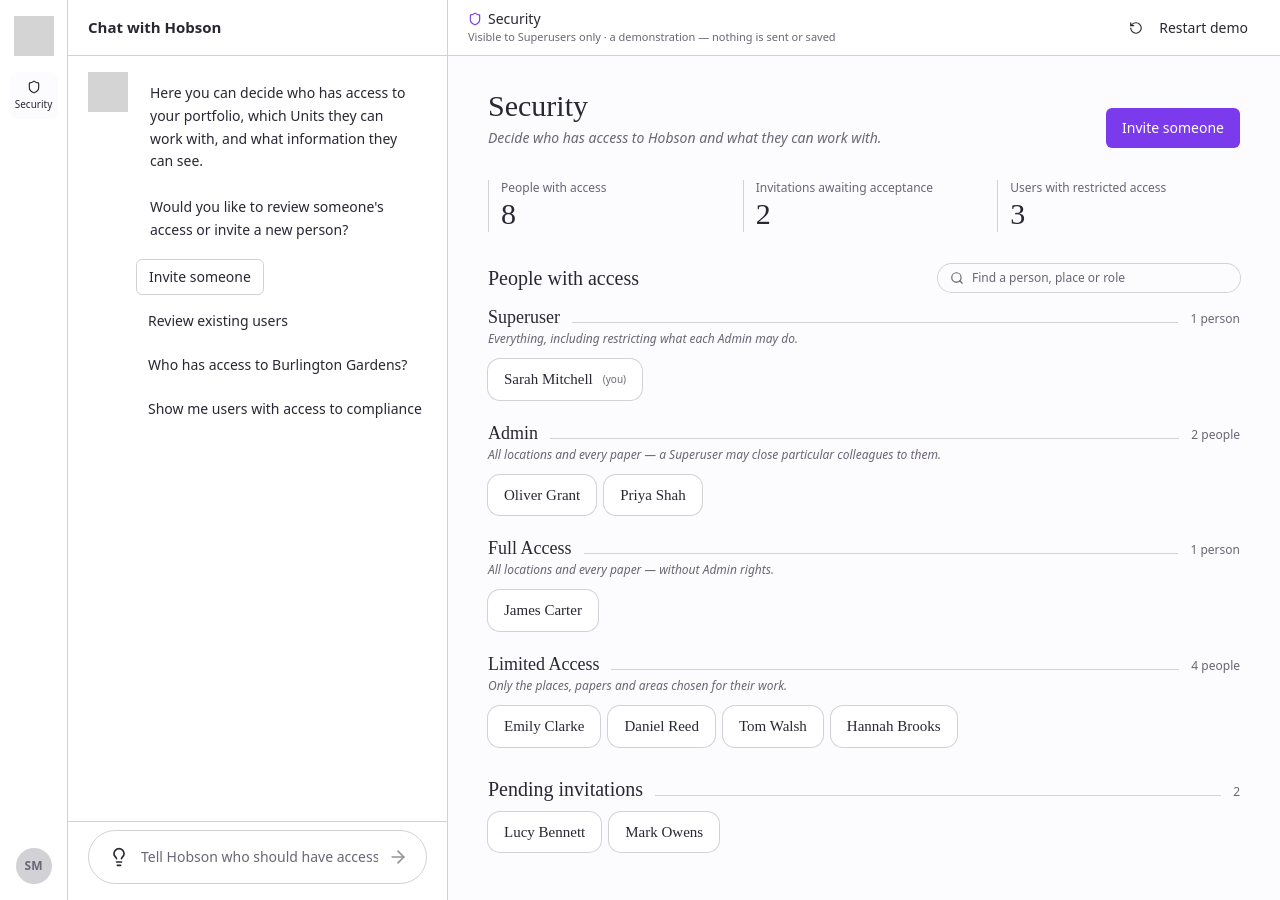
Test: prototype security page › renders the overview and opens a person with a live summary
Expected: the heading "People with access" is shown, [488,268,639,288]
Expected: the text "James Carter" is shown, [504,600,582,621]
Click the button with aria-label "Open James Carter's access" at (543, 611), box [488,590,598,631]
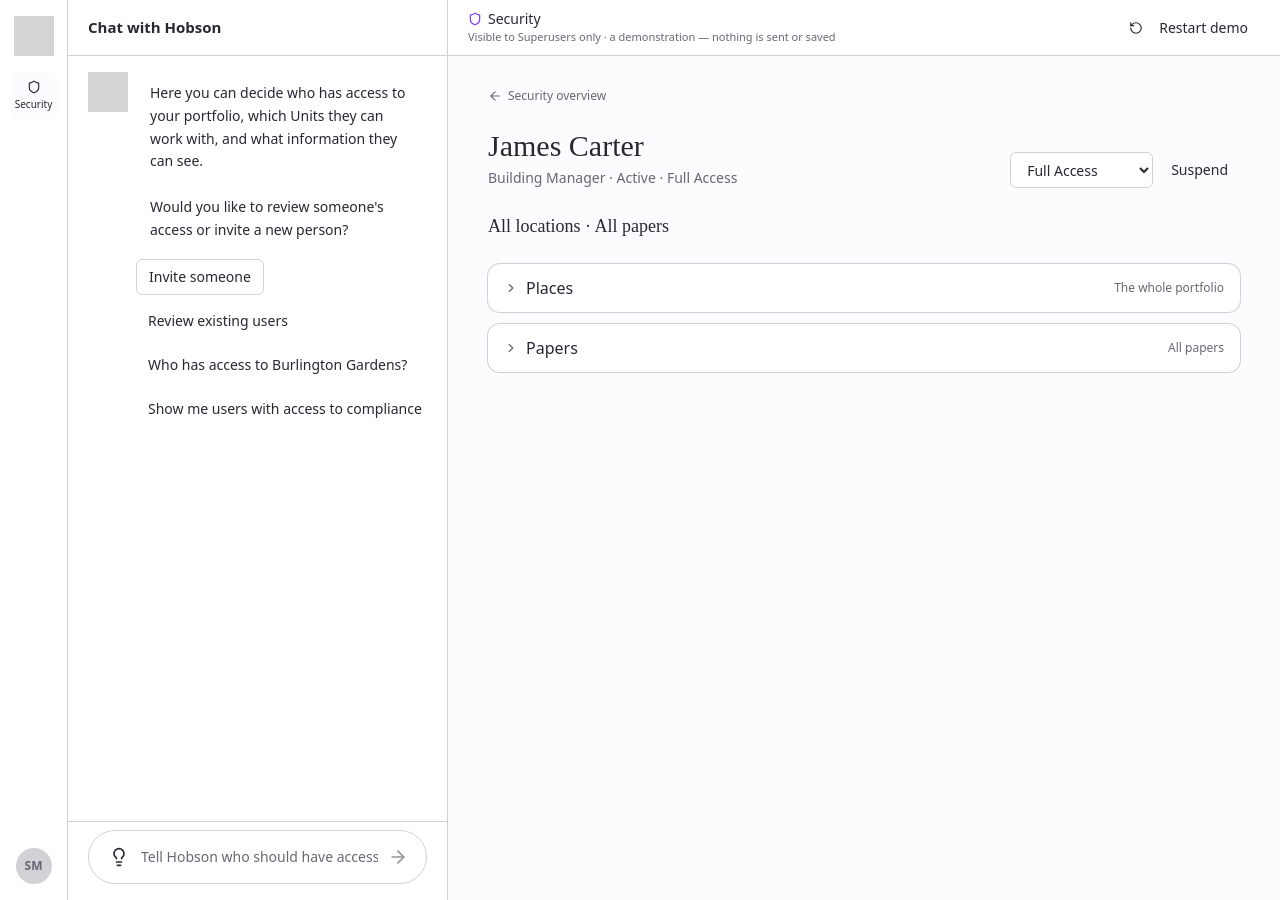
Expected: the text "Flat 8" is not shown
Expected: the text "All locations · All papers" is shown, [488,216,669,236]
Click the button "Places The whole portfolio" at (550, 288), box [488,264,1240,312]
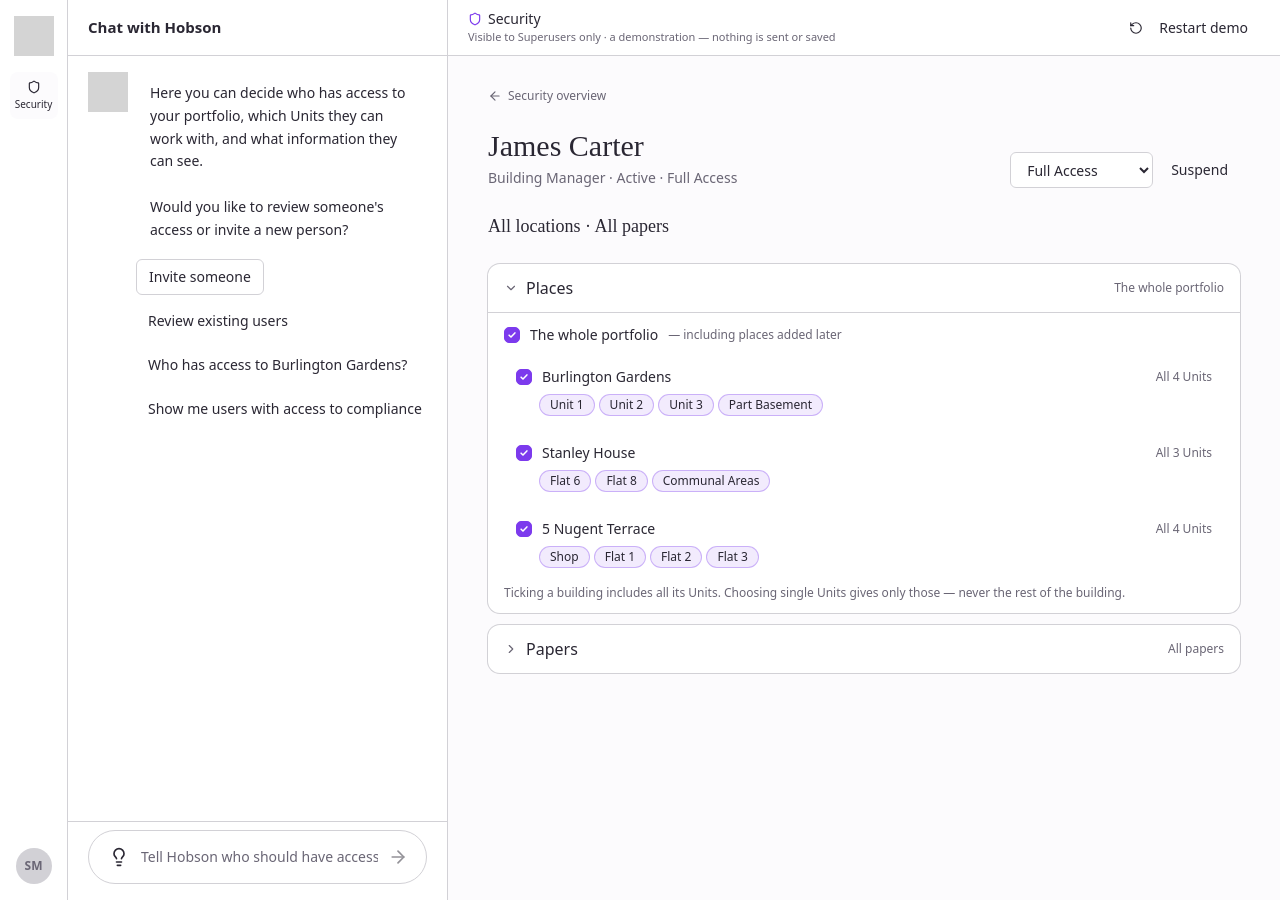
Expected: the text "Places" is shown, [526,276,573,300]
Click the button "Flat 8" at (622, 481), box [596,471,647,491]
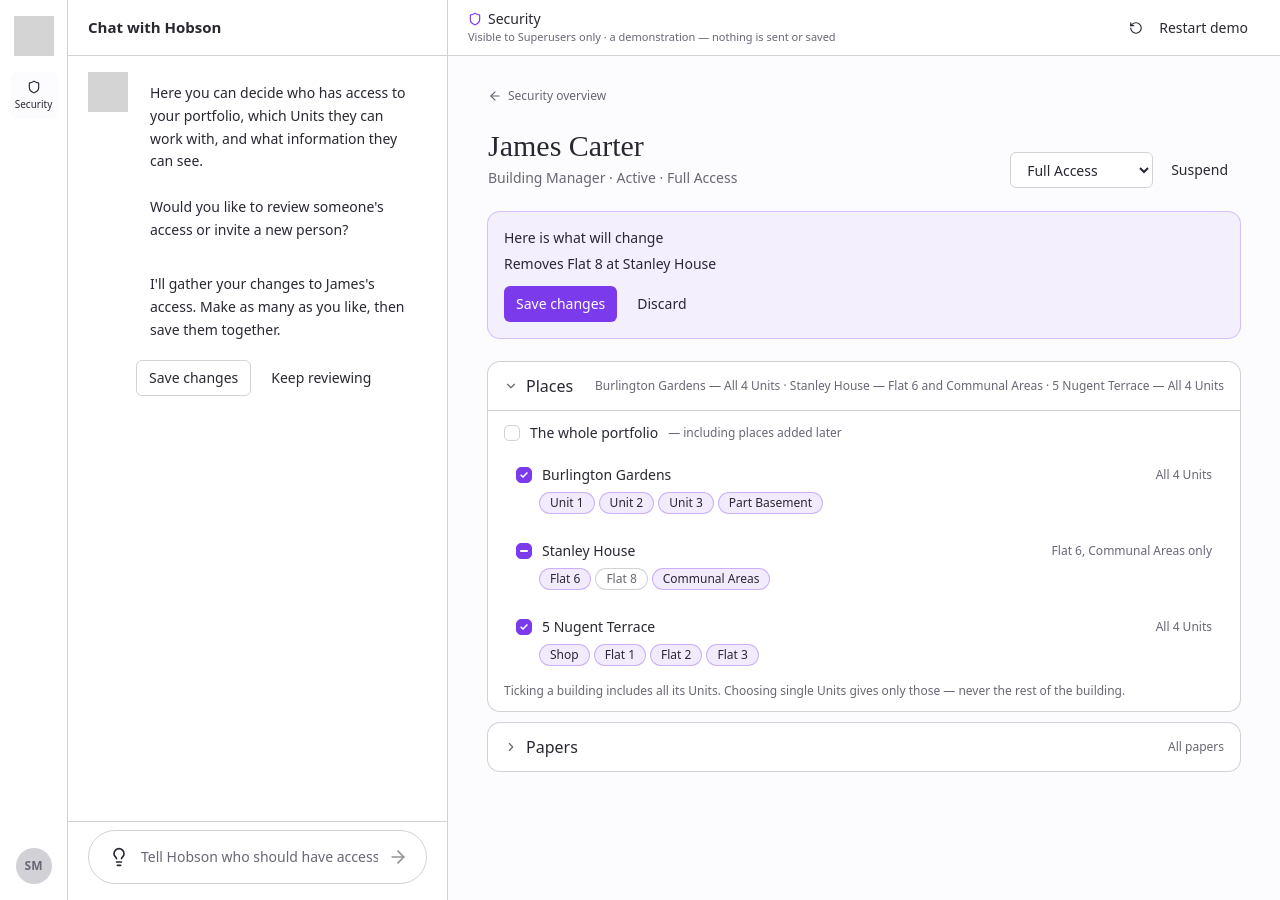
Expected: the dropdown named "Rights level for James" is shown, [1010,152,1153,188]
Expected: the text "Here is what will change" is shown, [504,228,663,247]
